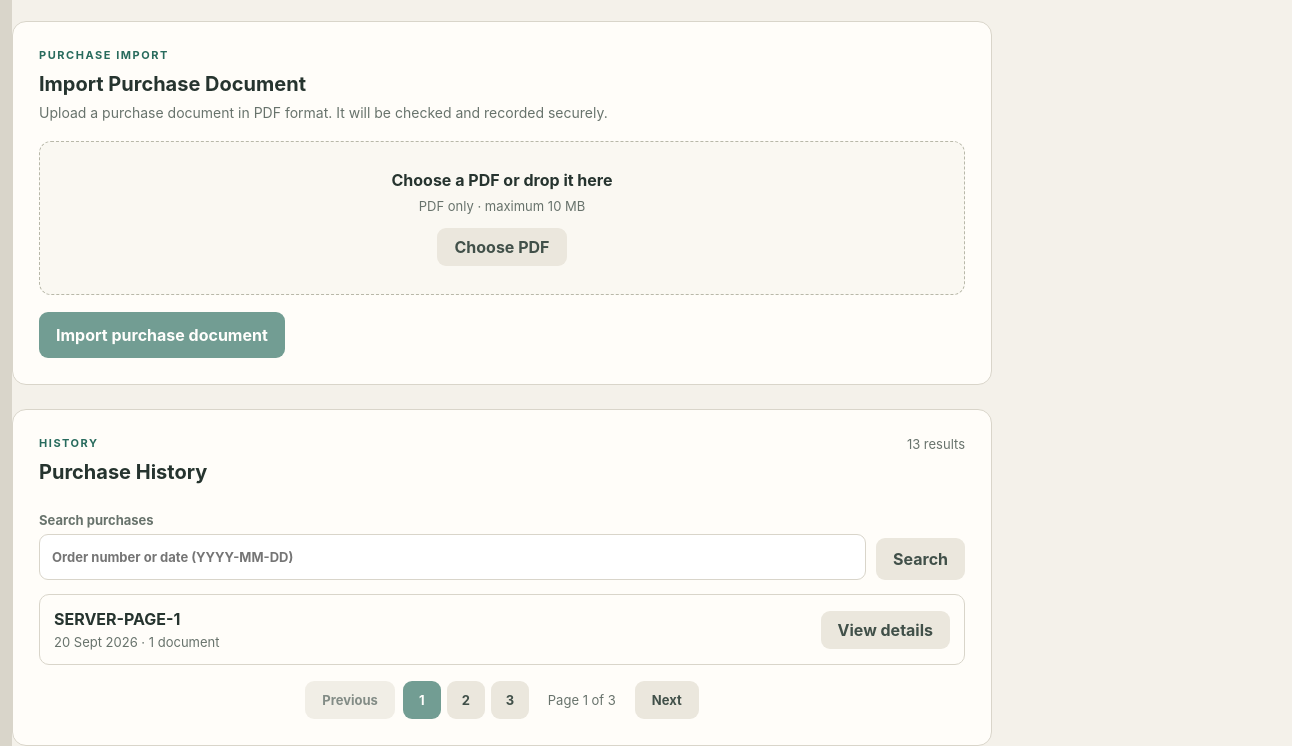
Test: Purchases › navigates forward, by page number and backward using server pagination
(page scrolled)
Expected: the text "SERVER-PAGE-1" is shown, [54, 609, 180, 629]
Click the button "Next" at (667, 700), box [635, 681, 699, 719]
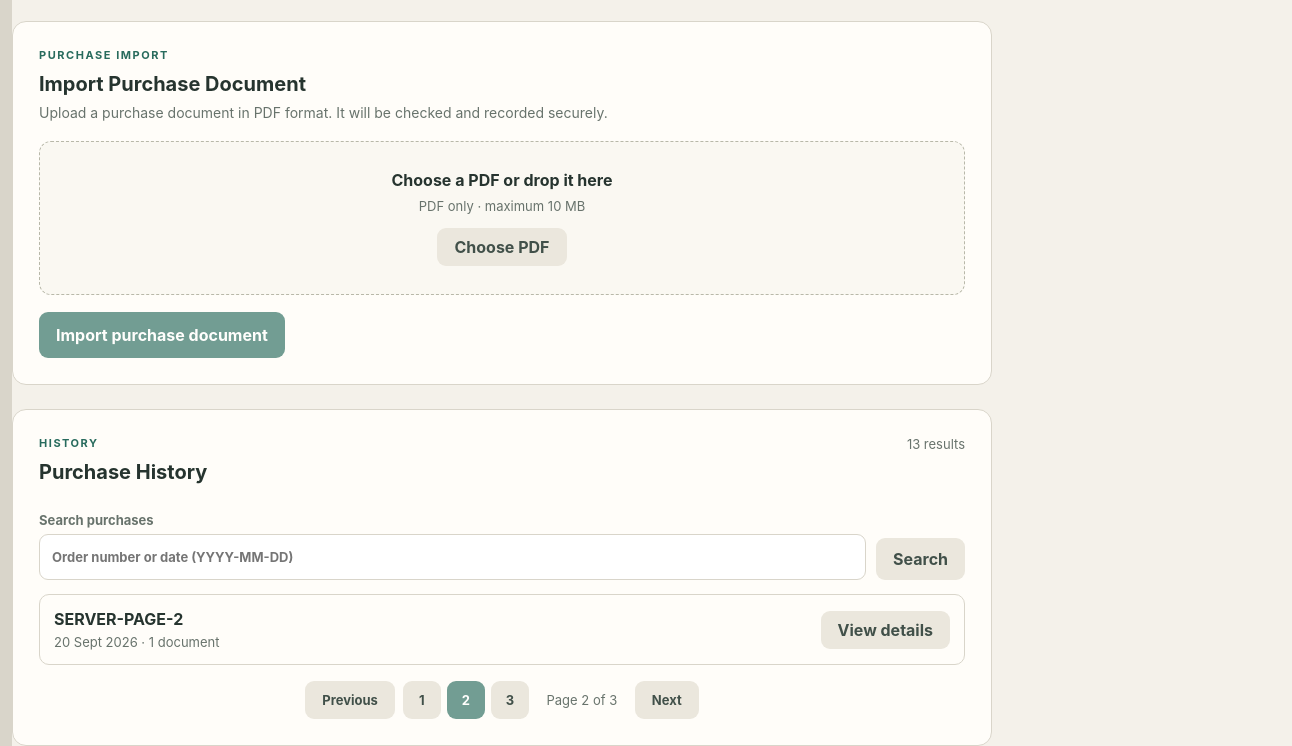
Now the text "SERVER-PAGE-2" is shown, box [54, 609, 183, 629]
Click the button named "Go to page 3" at (510, 700), box [491, 681, 529, 719]
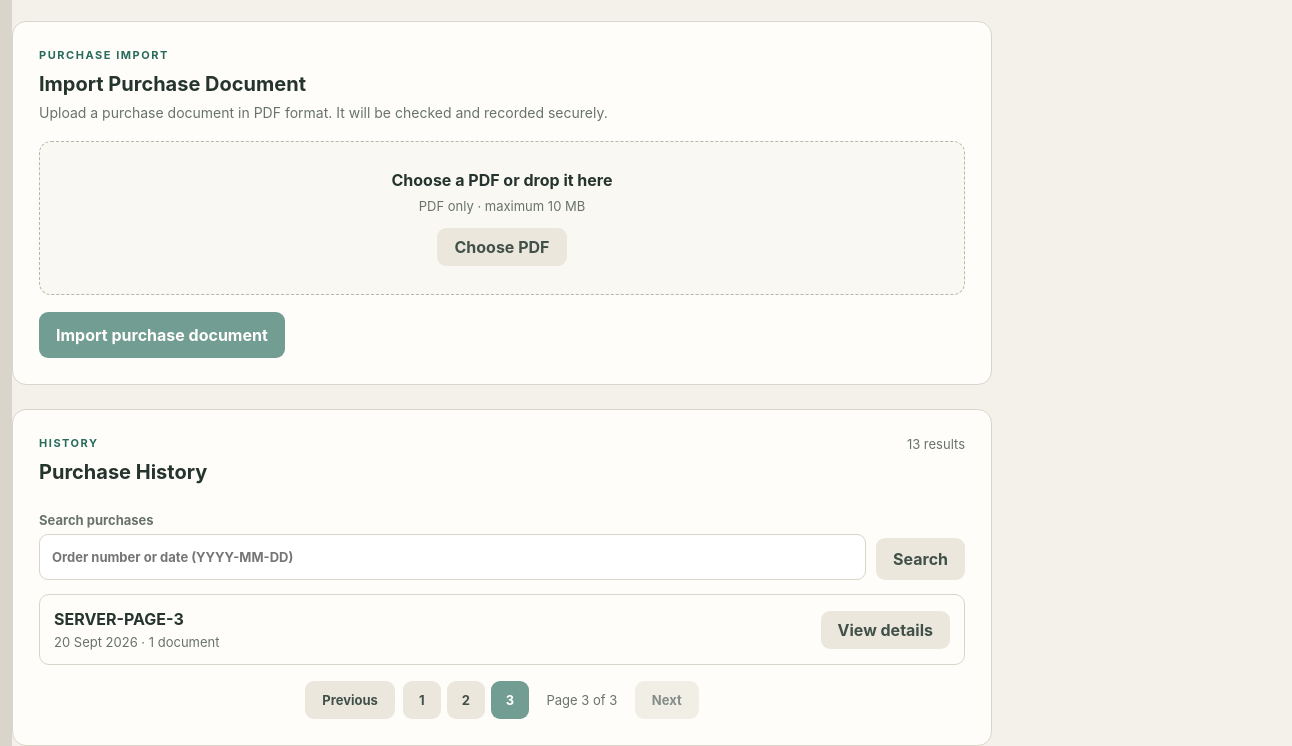
Now the button "Previous" is enabled
Now the text "SERVER-PAGE-3" is shown, box [54, 609, 184, 629]
Now the button "Next" is disabled, box [635, 681, 699, 719]
Click the button "Previous" at (350, 700), box [305, 681, 395, 719]
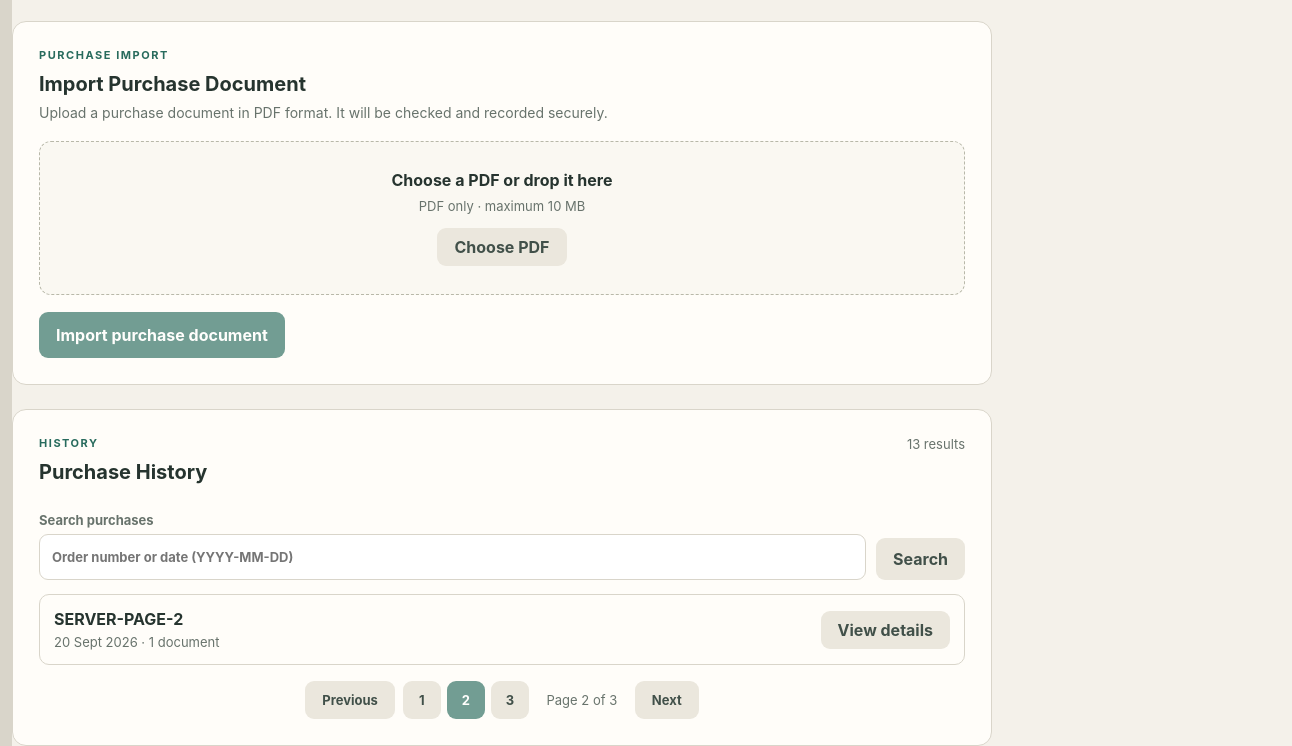
Now the text "SERVER-PAGE-2" is shown, box [54, 609, 183, 629]
